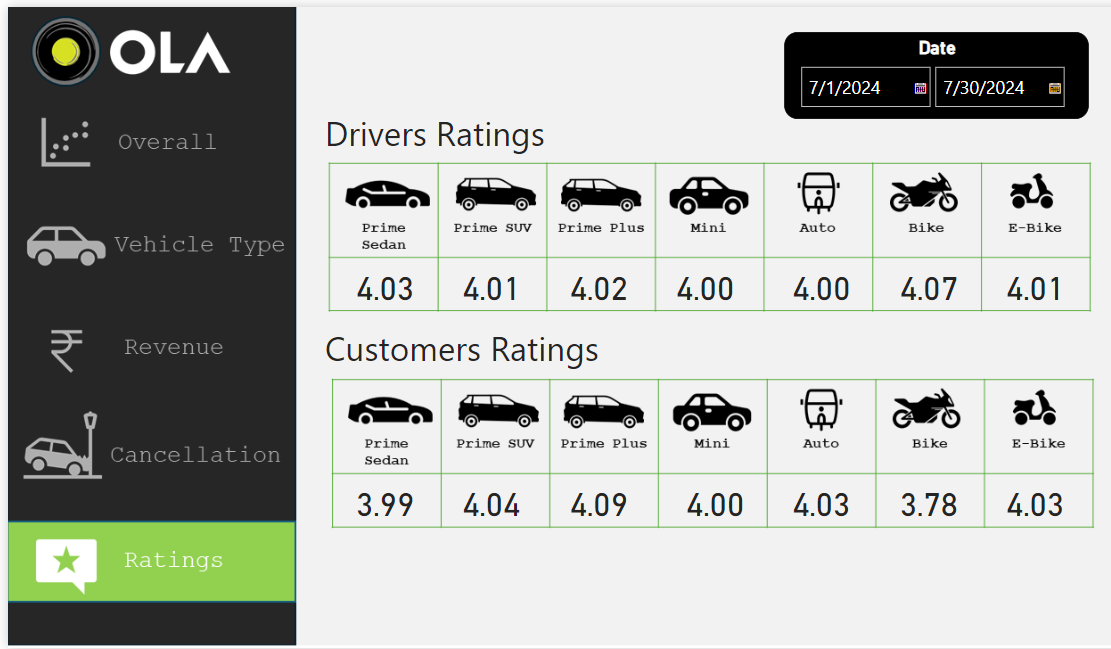

This screenshot's page, from the dashboard's own definition file:
{"tool":"powerbi","page":{"name":"Ratings","canvas":[1280,720],"ordinal":4},"visuals":[{"type":"actionButton","box":[0,208.6,324.3,114.3],"z":0},{"type":"actionButton","box":[0,322.9,324.3,120],"z":1000},{"type":"actionButton","box":[0,442.9,324.3,137.1],"z":2000},{"type":"actionButton","box":[1.4,101.4,324.3,110],"z":3000},{"type":"card","fields":{"Values":["Avg(booking 1000 line.Driver_Ratings)"]},"box":[362.9,283.9,120,58.5],"z":4000},{"type":"card","fields":{"Values":["Avg(booking 1000 line.Driver_Ratings)"]},"box":[482.9,283.9,120,58.5],"z":5000},{"type":"card","fields":{"Values":["Avg(booking 1000 line.Driver_Ratings)"]},"box":[602.8,283.9,120,58.5],"z":6000},{"type":"card","fields":{"Values":["Avg(booking 1000 line.Driver_Ratings)"]},"box":[722.8,283.9,120,58.5],"z":7000},{"type":"card","fields":{"Values":["Avg(booking 1000 line.Driver_Ratings)"]},"box":[853,283.9,120,58.5],"z":8000},{"type":"card","fields":{"Values":["Avg(booking 1000 line.Driver_Ratings)"]},"box":[973,283.9,120,58.5],"z":9000},{"type":"card","fields":{"Values":["Avg(booking 1000 line.Driver_Ratings)"]},"box":[1093,283.9,120,58.5],"z":10000},{"type":"textbox","box":[349.9,351.3,337.6,64.5],"z":11000},{"type":"textbox","box":[349.9,111.1,266.2,65.9],"z":12000},{"type":"card","fields":{"Values":["Avg(booking 1000 line.Customer_Rating)"]},"box":[362.9,528.2,120,52.7],"z":13000},{"type":"card","fields":{"Values":["Avg(booking 1000 line.Customer_Rating)"]},"box":[482.9,528.2,120,52.7],"z":14000},{"type":"card","fields":{"Values":["Avg(booking 1000 line.Customer_Rating)"]},"box":[602.8,528.2,120,52.7],"z":15000},{"type":"card","fields":{"Values":["Avg(booking 1000 line.Customer_Rating)"]},"box":[733.1,528.2,120,52.7],"z":16000},{"type":"card","fields":{"Values":["Avg(booking 1000 line.Customer_Rating)"]},"box":[853,528.2,120,52.7],"z":17000},{"type":"card","fields":{"Values":["Avg(booking 1000 line.Customer_Rating)"]},"box":[973,528.2,120,52.7],"z":18000},{"type":"card","fields":{"Values":["Avg(booking 1000 line.Customer_Rating)"]},"box":[1093,528.2,120,52.7],"z":19000},{"type":"slicer","title":"Date","fields":{"Values":["booking 1000 line.Date"]},"box":[871.4,27.4,341.7,97.4],"z":20000}]}

Visuals, with their boxes on the page's 1280x720 design canvas (x1, y1, x2, y2). These are canvas units, not pixel positions in the 1111x649 screenshot, which may show the page scaled, cropped or inside an application window:
actionButton: locate(0, 209, 324, 323)
actionButton: locate(0, 323, 324, 443)
actionButton: locate(0, 443, 324, 580)
actionButton: locate(1, 101, 326, 211)
card - Avg(booking 1000 line.Driver_Ratings): locate(363, 284, 483, 342)
card - Avg(booking 1000 line.Driver_Ratings): locate(483, 284, 603, 342)
card - Avg(booking 1000 line.Driver_Ratings): locate(603, 284, 723, 342)
card - Avg(booking 1000 line.Driver_Ratings): locate(723, 284, 843, 342)
card - Avg(booking 1000 line.Driver_Ratings): locate(853, 284, 973, 342)
card - Avg(booking 1000 line.Driver_Ratings): locate(973, 284, 1093, 342)
card - Avg(booking 1000 line.Driver_Ratings): locate(1093, 284, 1213, 342)
textbox: locate(350, 351, 688, 416)
textbox: locate(350, 111, 616, 177)
card - Avg(booking 1000 line.Customer_Rating): locate(363, 528, 483, 581)
card - Avg(booking 1000 line.Customer_Rating): locate(483, 528, 603, 581)
card - Avg(booking 1000 line.Customer_Rating): locate(603, 528, 723, 581)
card - Avg(booking 1000 line.Customer_Rating): locate(733, 528, 853, 581)
card - Avg(booking 1000 line.Customer_Rating): locate(853, 528, 973, 581)
card - Avg(booking 1000 line.Customer_Rating): locate(973, 528, 1093, 581)
card - Avg(booking 1000 line.Customer_Rating): locate(1093, 528, 1213, 581)
"Date" slicer: locate(871, 27, 1213, 125)
